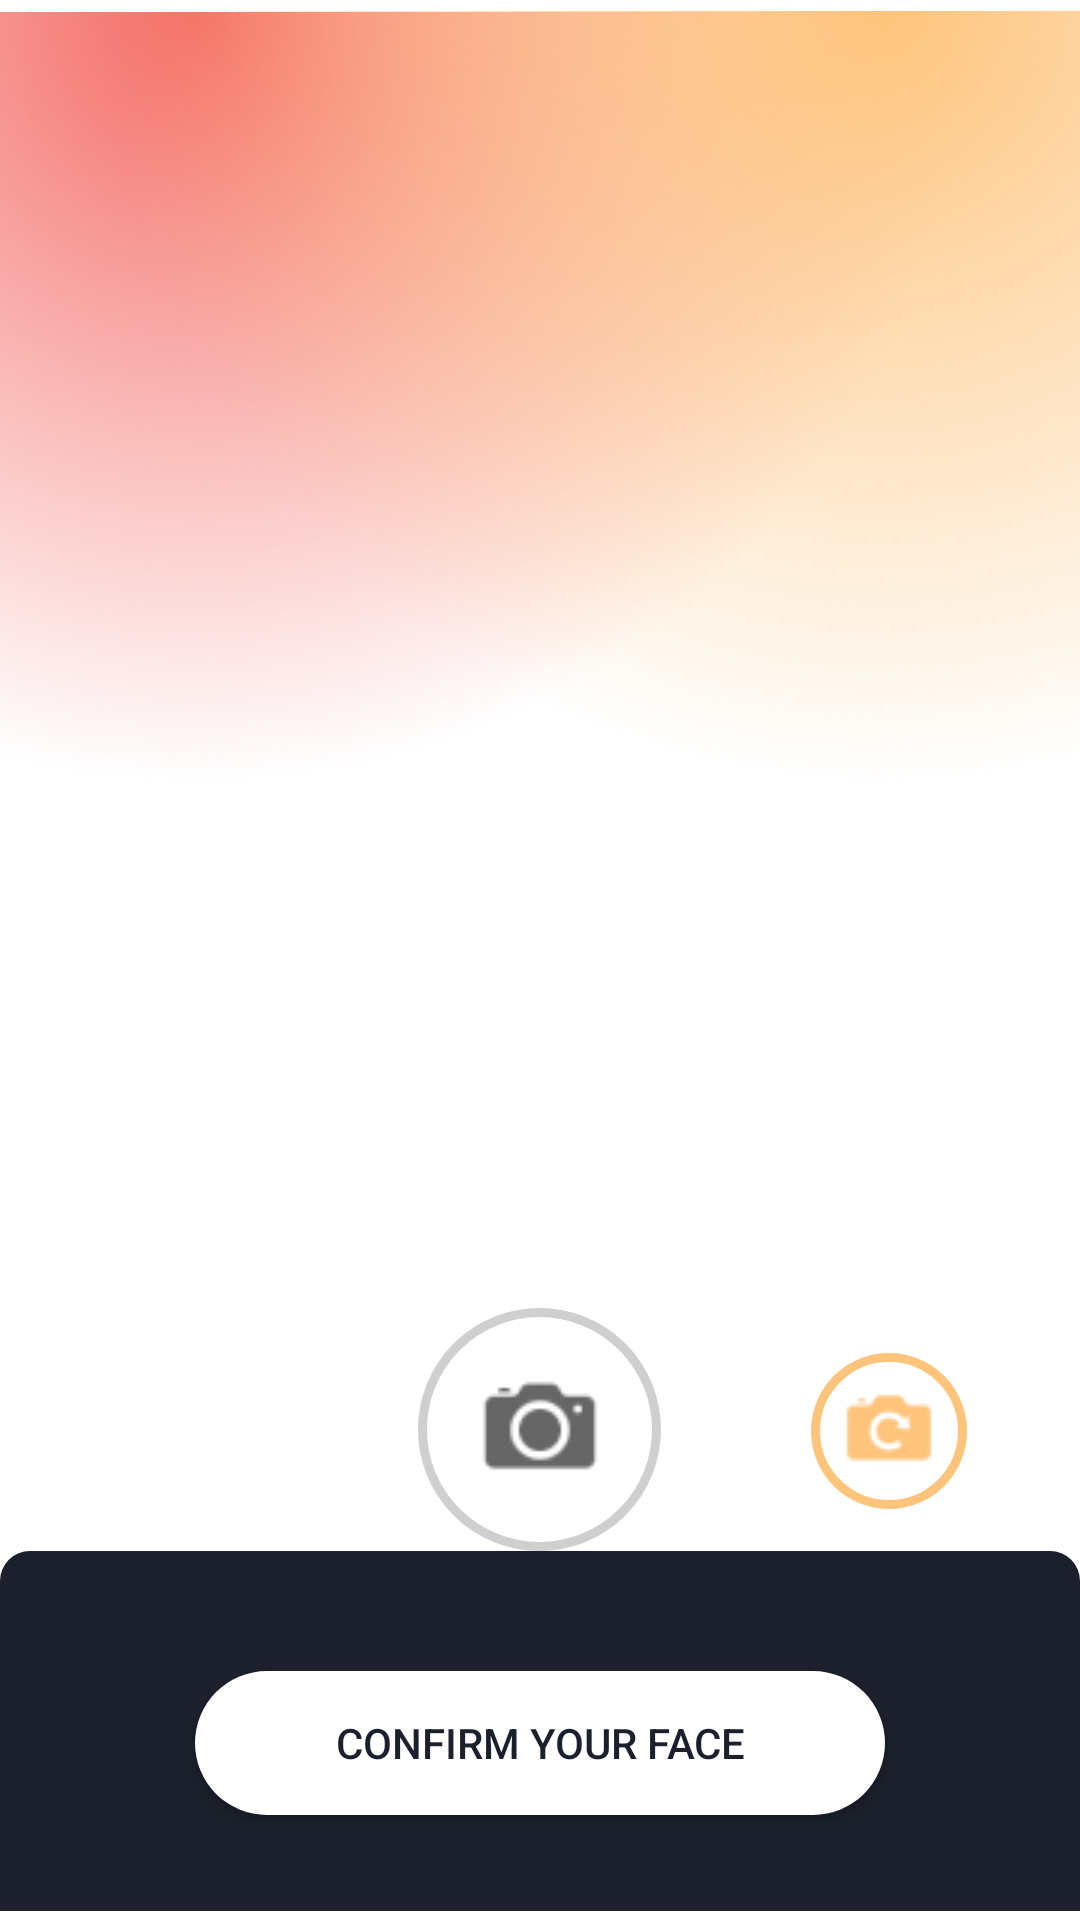

Icon bounding boxes for this 1080px x 1920px phone screenshot, format box=[x1, y1, x2, y2]:
camerarotat: box=[811, 1353, 967, 1509]
